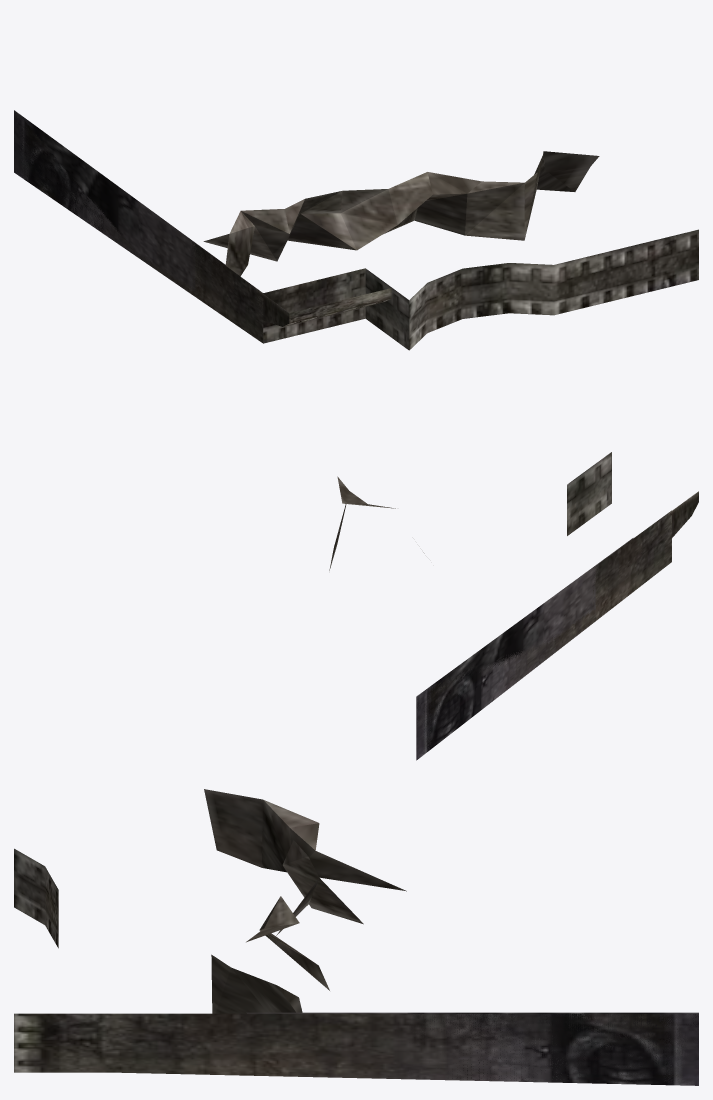
The model's file is Fort01.glb.
The picture shows the model from 3 angles, top to bottom: view 1: azimuth 30°, elevation 25°; view 2: azimuth 150°, elevation 25°; view 3: azimuth 270°, elevation 25°; orthographic projection. The views are drawn at different scales.
Parts seen in each view (by area): view 1: model_Fort01; view 2: model_Fort01; view 3: model_Fort01.
Part boxes in pixels (<box>): model_Fort01: <box>14,110,698,350</box>; model_Fort01: <box>329,452,698,760</box>; model_Fort01: <box>14,789,698,1085</box>.
Size of the model in its own units: 3.5 by 0.5861 by 4.53.
Materials: 3 (3 with a texture image).
